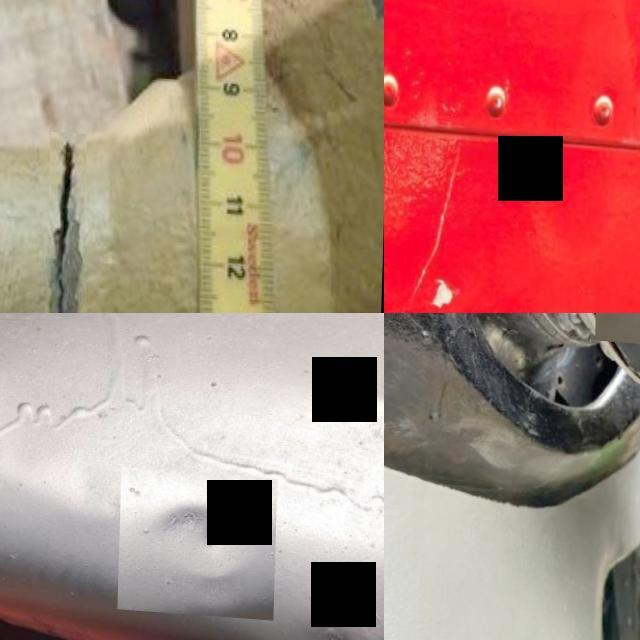Crack: (49, 128, 81, 313)
Dent: (120, 464, 280, 614), (411, 141, 461, 299), (274, 587, 384, 640), (435, 271, 457, 304)
